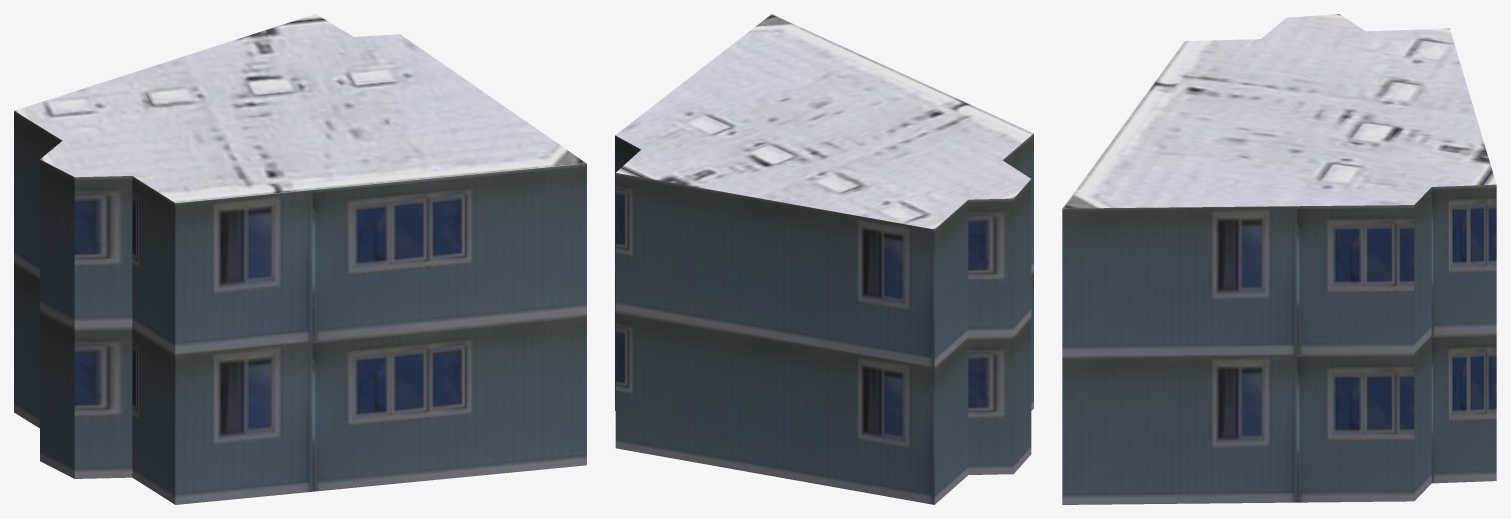
File: RelTex__10.fbx
3 views of the same model, side by side, from view 1: azimuth 30°, elevation 25°; view 2: azimuth 150°, elevation 25°; view 3: azimuth 270°, elevation 25° (orthographic). The views are drawn at different scales.
Parts seen in each view (by area): view 1: CityEngineMaterial_3_m, CityEngineMaterial_18_m; view 2: CityEngineMaterial_3_m, CityEngineMaterial_18_m; view 3: CityEngineMaterial_3_m, CityEngineMaterial_18_m.
Part boxes in pixels (x1,y1,x2,y2): CityEngineMaterial_3_m: (14,111,586,504); CityEngineMaterial_18_m: (14,14,586,203); CityEngineMaterial_3_m: (615,133,1033,504); CityEngineMaterial_18_m: (615,14,1033,229); CityEngineMaterial_3_m: (1062,184,1496,504); CityEngineMaterial_18_m: (1062,14,1496,208).
Bounding box in the file's own units: 12.67 × 9 × 11.95.
Materials: 2 (2 with a texture image).
